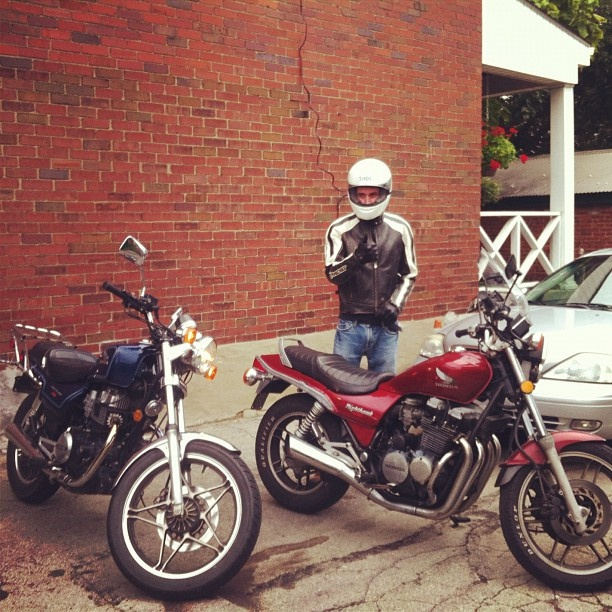non-vehicle: (247, 255, 610, 593), (0, 234, 263, 599)
